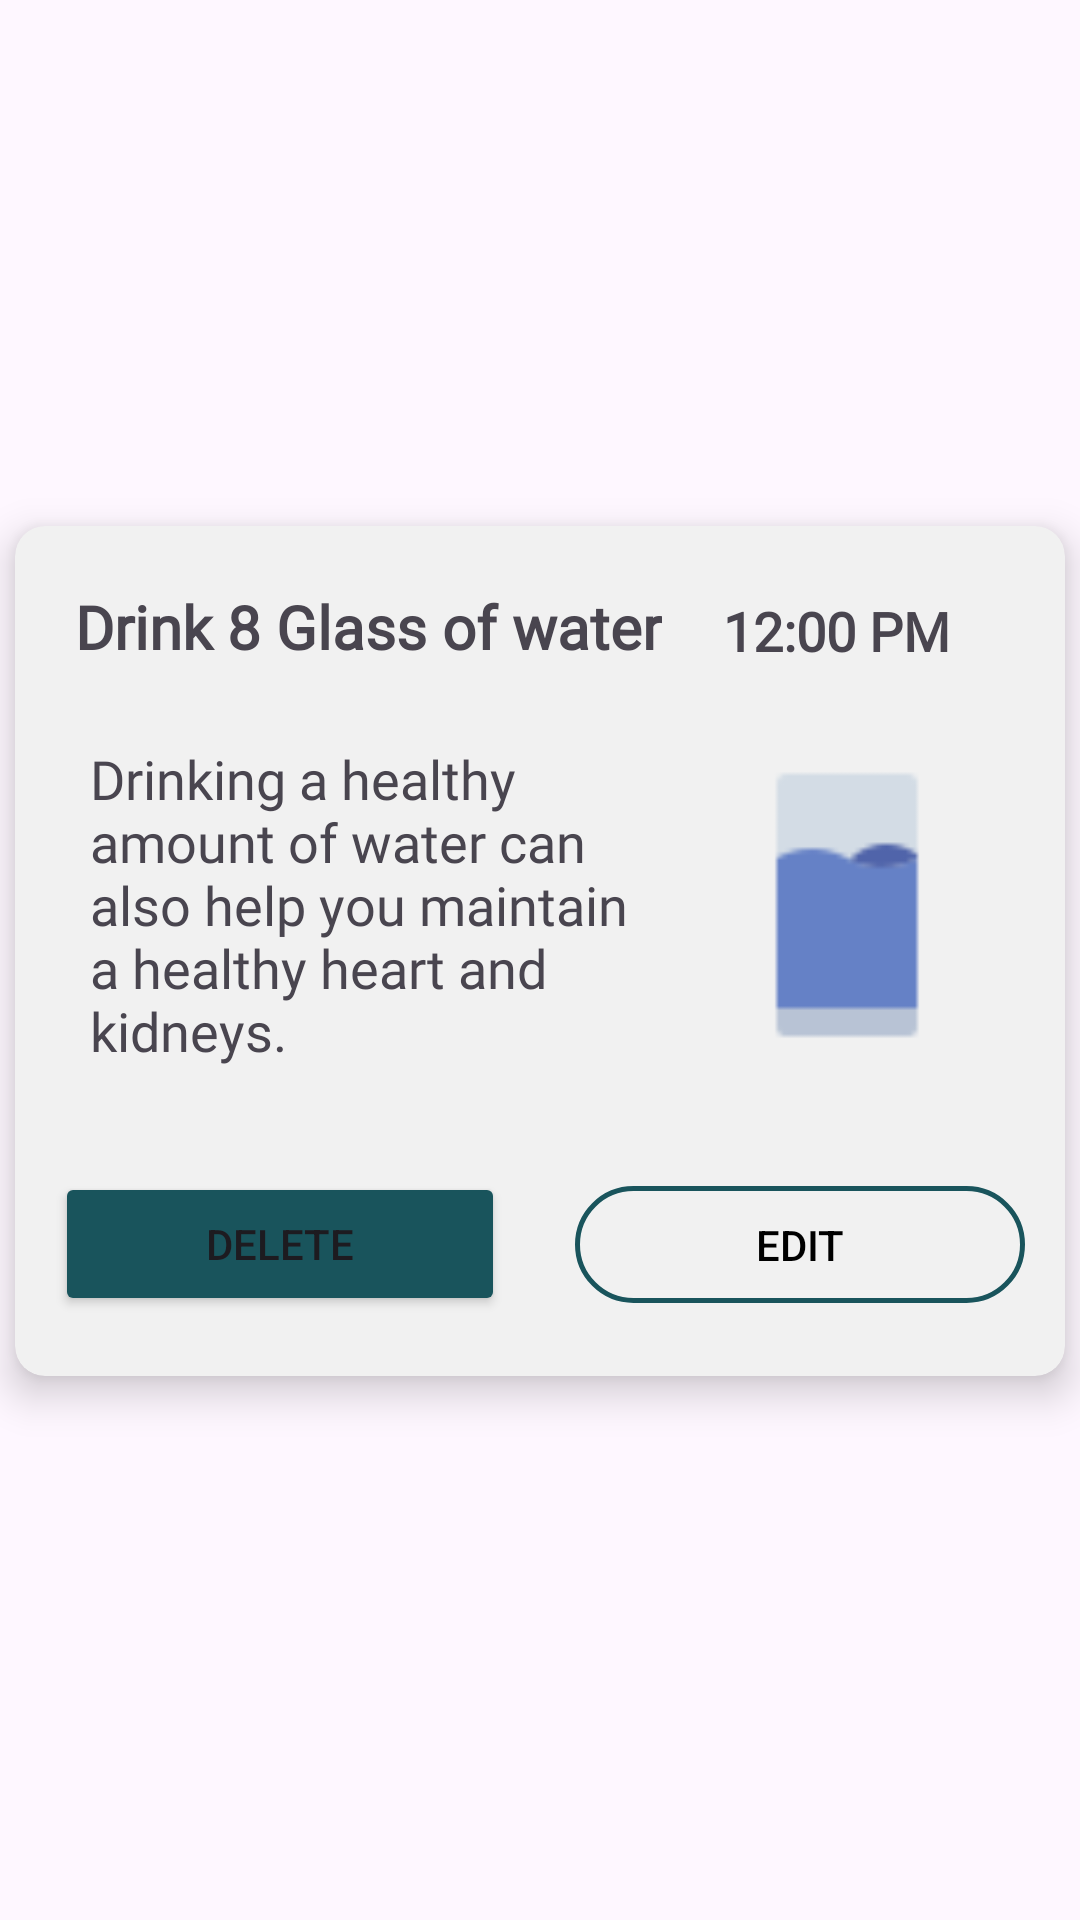

Point at icon controls on the screen. Image size 1080px x 1920px, points as point (x, y).
raite water: point (847, 906)
